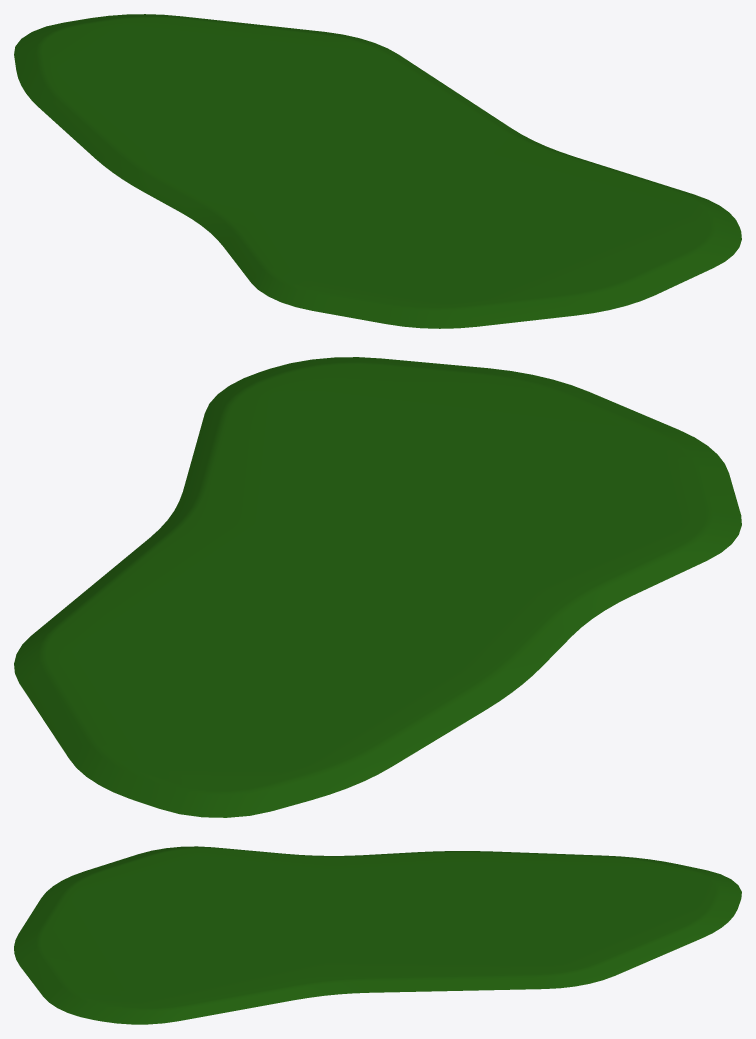
The model's file is GroundPadding02_3.fbx.
3 renders of one model, top to bottom at view 1: azimuth 30°, elevation 25°; view 2: azimuth 150°, elevation 25°; view 3: azimuth 270°, elevation 25°, orthographic. The views are drawn at different scales.
Visible parts, largest first — view 1: LOD0; view 2: LOD0; view 3: LOD0.
Part boxes in pixels (x1,y1,x2,y2): LOD0: (14, 14, 741, 328); LOD0: (14, 357, 741, 817); LOD0: (14, 846, 741, 1024).
Size of what is drawn, in the model's own units: 1167 by 2016 by 20.52.
Materials: 1 (1 with a texture image).
